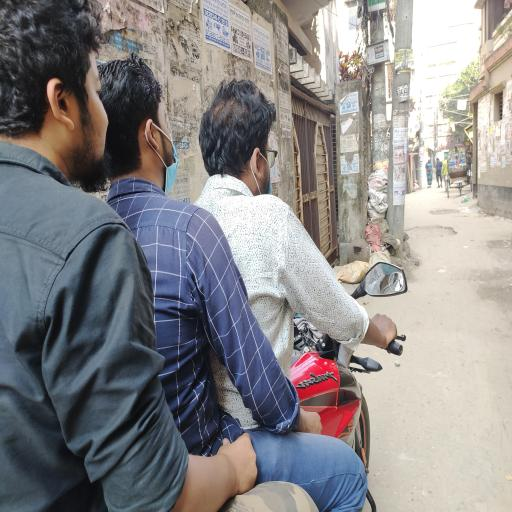helmet: (144, 120, 179, 196)
overloading: (2, 2, 401, 508)
